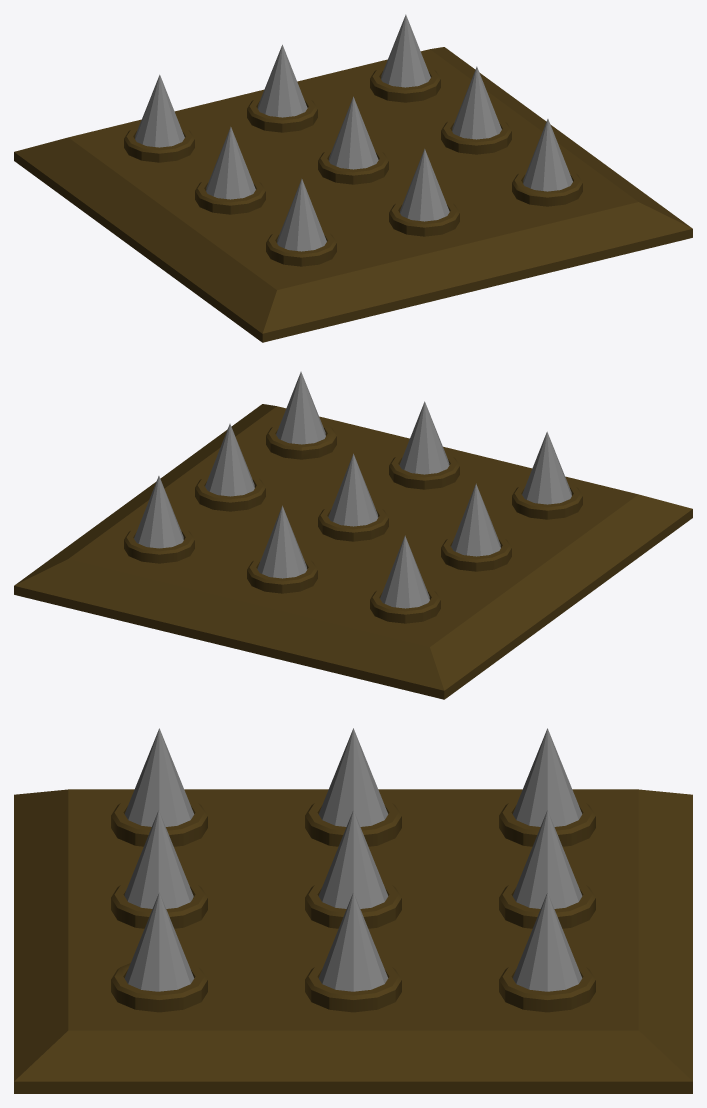
The model's file is SpikeHazardV1.fbx.
3 renders of one model, top to bottom at view 1: azimuth 30°, elevation 25°; view 2: azimuth 150°, elevation 25°; view 3: azimuth 270°, elevation 25°, orthographic. The views are drawn at different scales.
Parts seen in each view (by area): view 1: Base, Spikes; view 2: Base, Spikes; view 3: Base, Spikes.
Part boxes in pixels (x1,y1,x2,y2): Base: (14,47,692,342); Spikes: (135,14,572,251); Base: (14,404,692,699); Spikes: (134,371,571,608); Base: (14,789,692,1093); Spikes: (124,728,582,991).
Size of the model in its own units: 0.02 by 0.00458 by 0.02.
